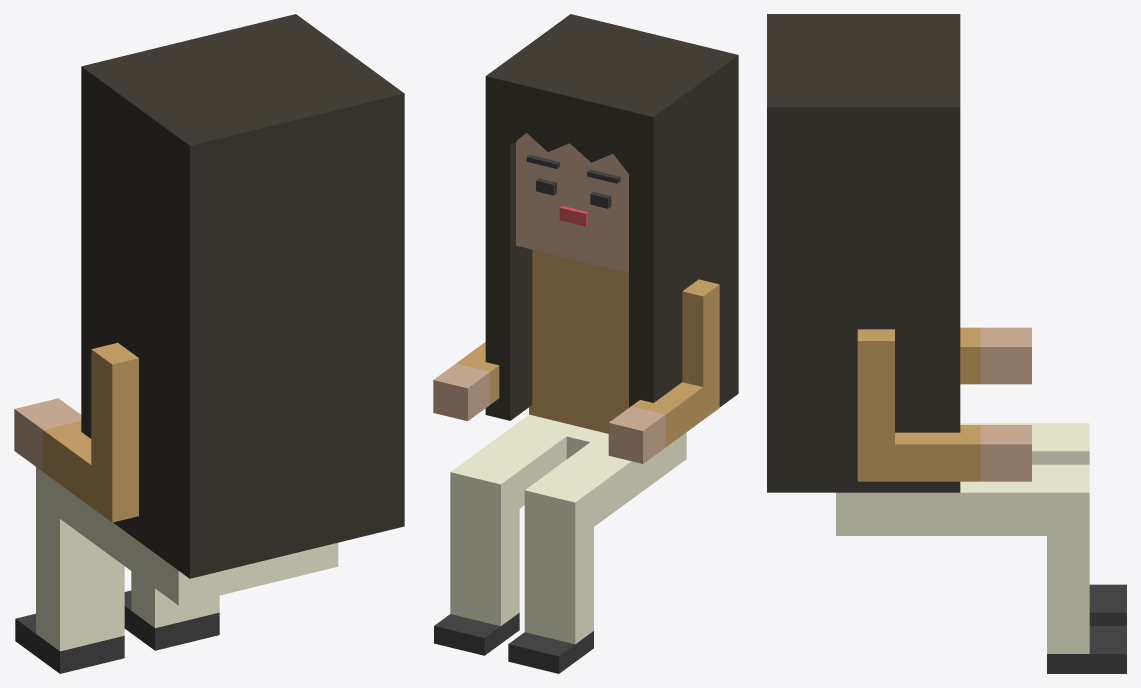
The model's file is customerSit4-1.fbx.
The picture shows the model from 3 angles, left to right: view 1: azimuth 30°, elevation 25°; view 2: azimuth 150°, elevation 25°; view 3: azimuth 270°, elevation 25°; orthographic projection. The views are drawn at different scales.
Parts seen in each view (by area): view 1: customerSit; view 2: customerSit; view 3: customerSit.
Part boxes in pixels (x1,y1,x2,y2): customerSit: (14,14,404,673); customerSit: (433,14,738,673); customerSit: (767,14,1126,673).
Size of the model in its own units: 22.53 by 52.21 by 29.42.
